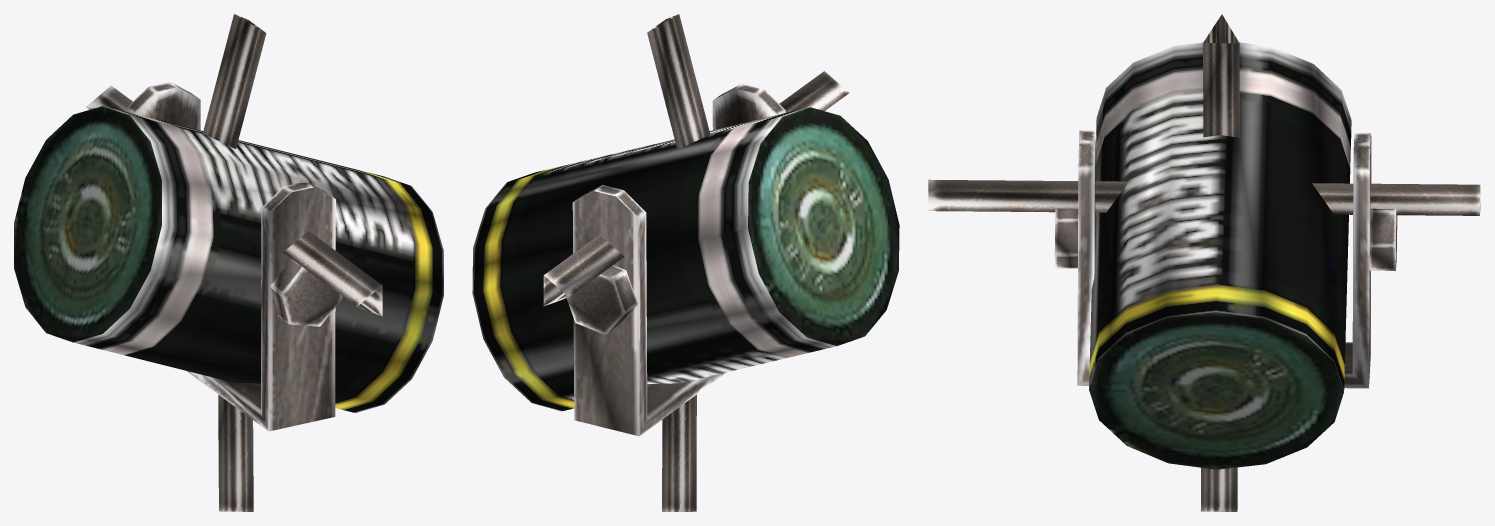
Rendered from Robot01.Chest_no_gum1.fbx.
3 views of the same model, side by side, from view 1: azimuth 30°, elevation 25°; view 2: azimuth 150°, elevation 25°; view 3: azimuth 270°, elevation 25° (orthographic).
Parts seen in each view (by area): view 1: mesh_1093, mesh_1092; view 2: mesh_1093, mesh_1092; view 3: mesh_1093, mesh_1092.
Boxes of the visible parts, <box> form: mesh_1093: <box>14,106,443,412</box>; mesh_1092: <box>86,14,382,511</box>; mesh_1093: <box>472,107,899,411</box>; mesh_1092: <box>543,14,848,511</box>; mesh_1093: <box>1089,42,1351,469</box>; mesh_1092: <box>928,14,1480,511</box>.
Size of the model in its own units: 60.81 by 79.27 by 80.45.
